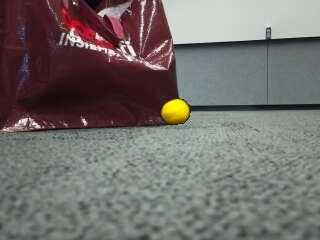lemon: (162, 99, 190, 123)
